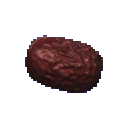gd: (18, 19, 108, 102)
